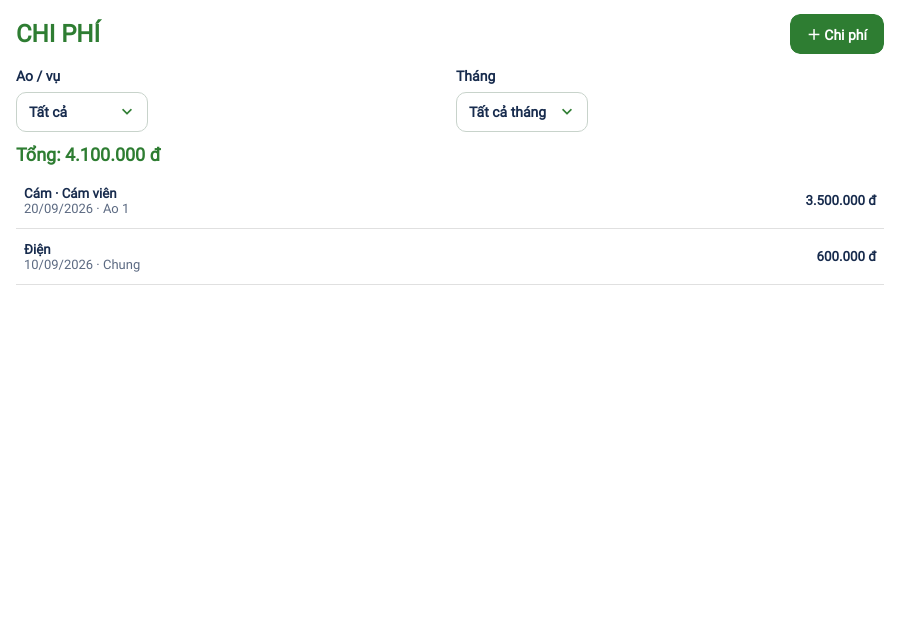
Test: lọc theo tháng → gửi ngày đầu và cuối tháng
What coordinates should you click on to do the following:
click the button with id "expenseMonth"
I would click on:
 (522, 112)
Its box is 456,92 -> 588,132.
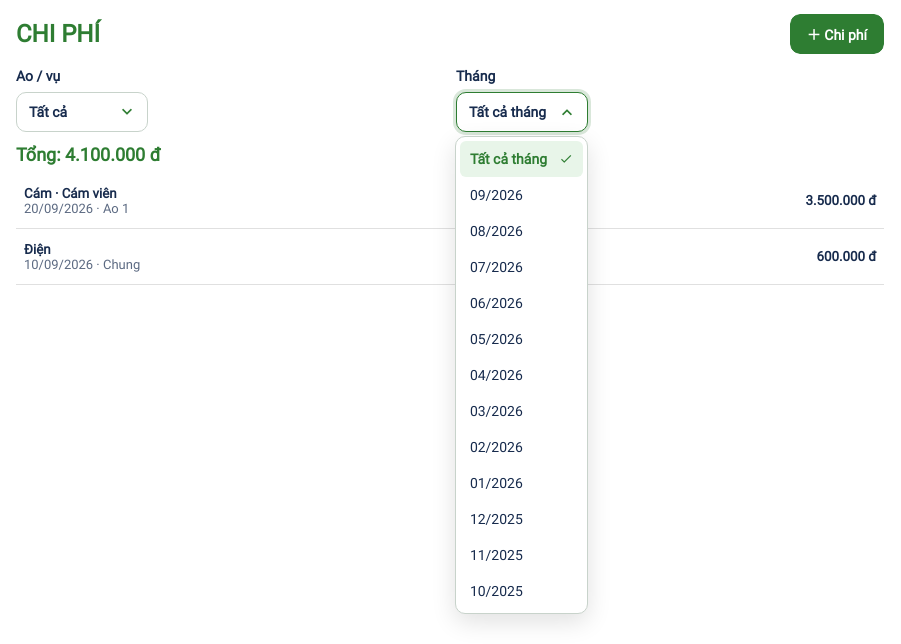
What coordinates should you click on to do the following:
click the option "09/2026"
I would click on:
 (496, 195)
Its box is 470,187 -> 523,203.
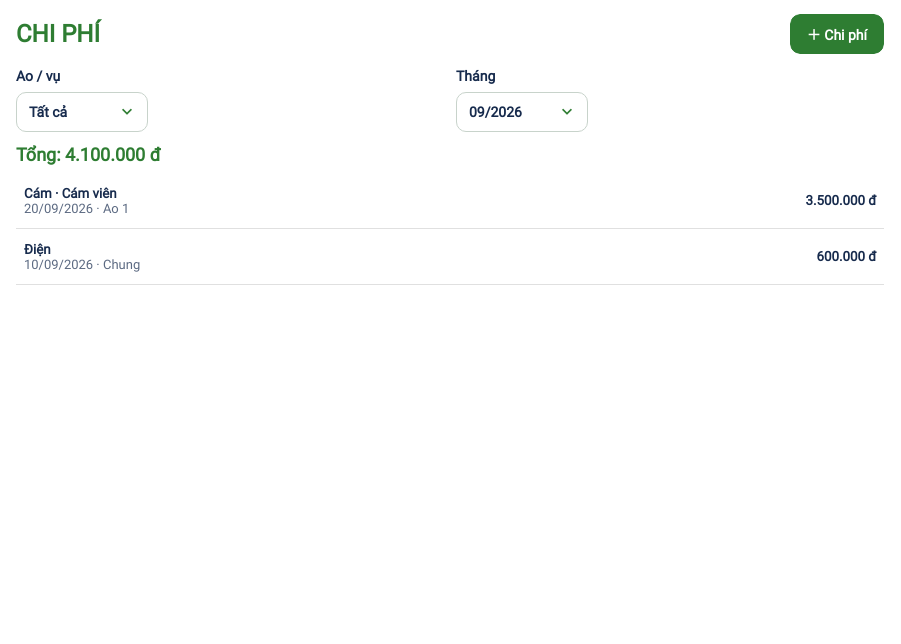
Result: the button with id "expenseMonth" reads "09/2026" at 456,92 -> 588,132
